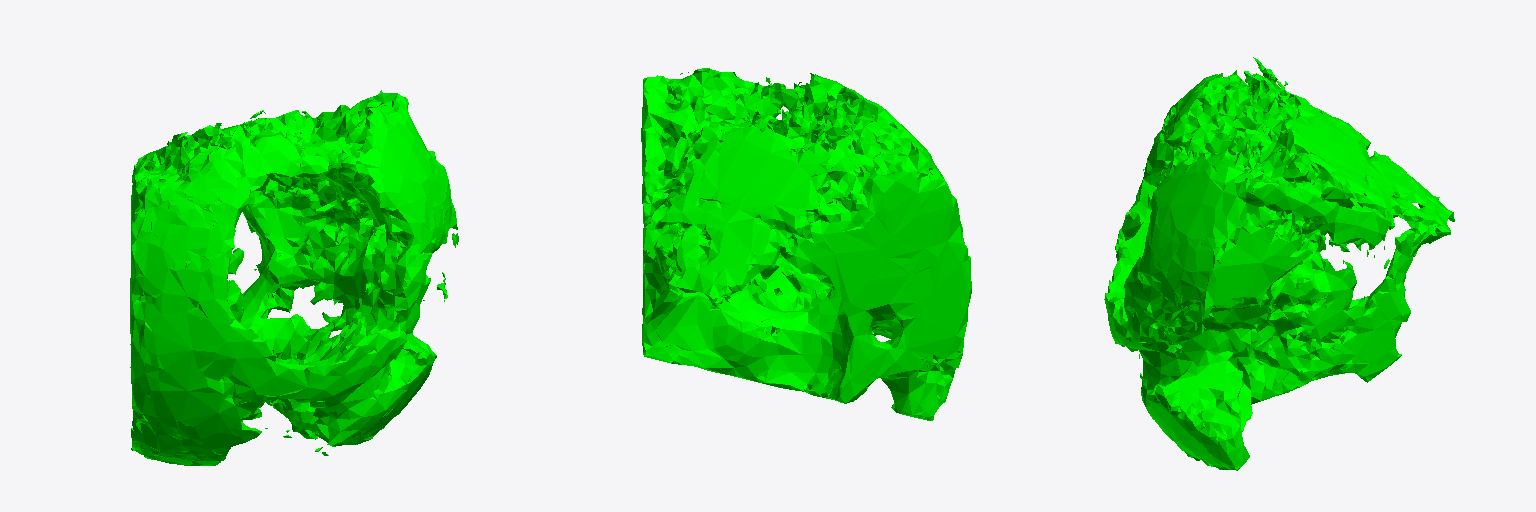
Rendered from B939XXXX-1_base_23.obj.
3 views of the same model, side by side, from view 1: azimuth 30°, elevation 25°; view 2: azimuth 150°, elevation 25°; view 3: azimuth 270°, elevation 25° (orthographic).
Parts seen in each view (by area): view 1: 23_base; view 2: 23_base; view 3: 23_base.
Boxes of the visible parts, x1,y1,x2,y2 form: 23_base: [130, 90, 458, 465]; 23_base: [641, 68, 971, 420]; 23_base: [1104, 57, 1454, 470].
Size of the model in its own units: 219 by 216 by 203.